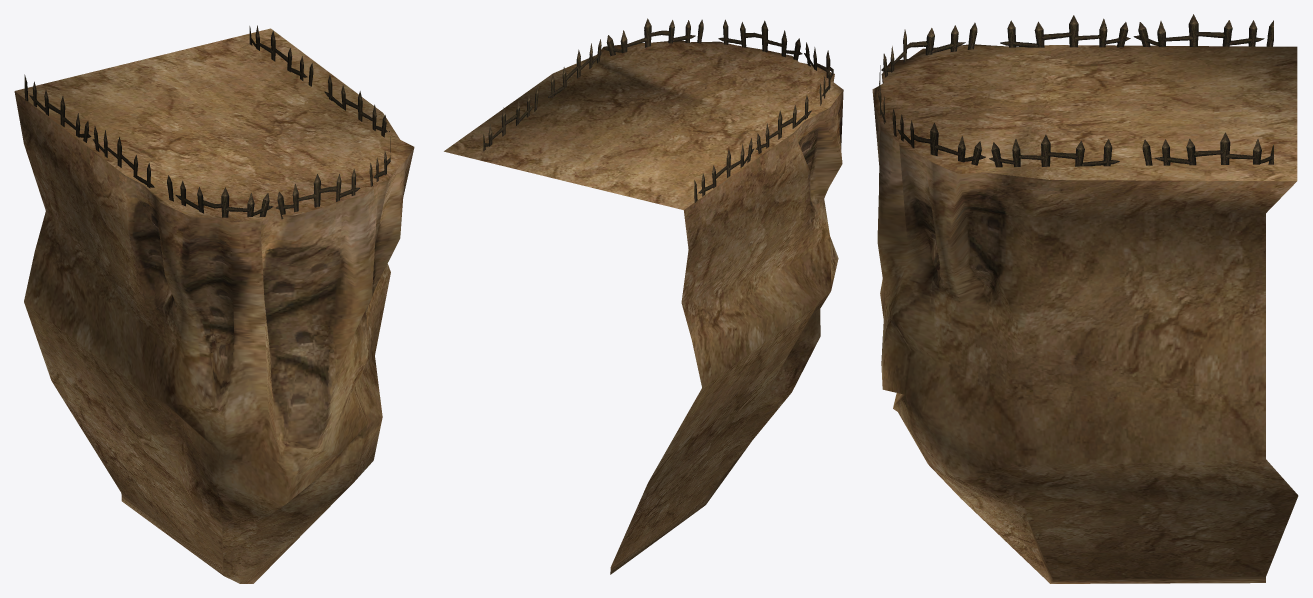
Rendered from w_cd_ravi_house_02.glb.
The picture shows the model from 3 angles, left to right: view 1: azimuth 30°, elevation 25°; view 2: azimuth 150°, elevation 25°; view 3: azimuth 270°, elevation 25°; orthographic projection. The views are drawn at different scales.
Parts seen in each view (by area): view 1: W_CD_ravi_house_17, W_CD_ravi_house_16; view 2: W_CD_ravi_house_17, W_CD_ravi_house_16; view 3: W_CD_ravi_house_17, W_CD_ravi_house_16.
Part boxes in pixels (left/top/right/bottom): W_CD_ravi_house_17: left=14, top=28, right=414, bottom=583; W_CD_ravi_house_16: left=24, top=25, right=390, bottom=219; W_CD_ravi_house_17: left=444, top=40, right=843, bottom=574; W_CD_ravi_house_16: left=483, top=18, right=833, bottom=202; W_CD_ravi_house_17: left=872, top=44, right=1298, bottom=583; W_CD_ravi_house_16: left=878, top=14, right=1273, bottom=167.
Size of the model in its own units: 18.64 by 31.74 by 24.07.
Materials: 2 (2 with a texture image).
